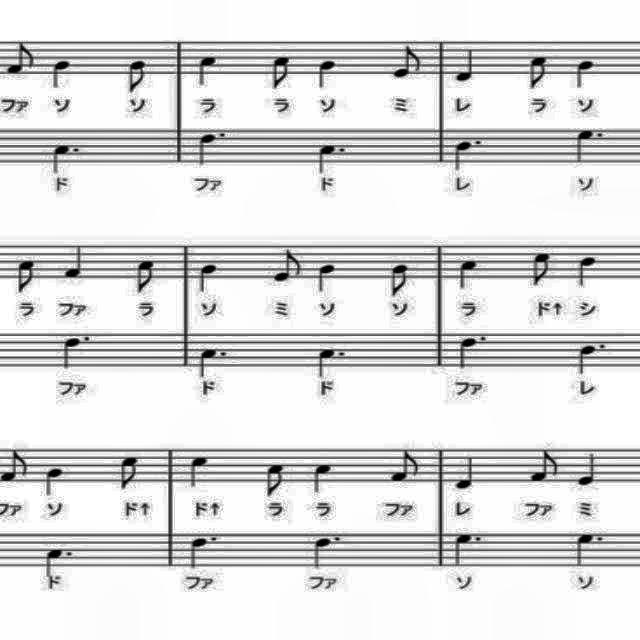Eighth-note: (388, 44, 428, 84), (524, 446, 562, 486), (4, 38, 41, 78), (528, 246, 560, 292), (386, 448, 422, 488), (10, 254, 44, 296), (271, 244, 303, 286), (112, 452, 144, 494), (523, 52, 553, 94), (262, 459, 290, 501), (120, 58, 152, 94), (266, 54, 296, 92), (132, 255, 160, 293), (0, 448, 28, 486), (388, 261, 412, 301)
Quarter-dot: (194, 123, 232, 169), (60, 331, 100, 371), (310, 528, 346, 572), (456, 331, 492, 374), (186, 530, 224, 570), (572, 125, 608, 167), (572, 528, 608, 570), (194, 344, 234, 381), (45, 136, 83, 174), (314, 138, 350, 176), (450, 132, 482, 174), (576, 338, 610, 377), (40, 545, 78, 579), (452, 530, 484, 570), (316, 344, 346, 380)
Quarter-note: (453, 42, 481, 86), (195, 50, 225, 90), (60, 243, 92, 280), (456, 254, 484, 296), (186, 452, 214, 494), (193, 260, 219, 302), (574, 252, 604, 288), (36, 462, 66, 498), (568, 57, 596, 95), (454, 453, 478, 495), (314, 56, 340, 94), (312, 461, 336, 501), (316, 263, 342, 297), (576, 452, 596, 492), (51, 56, 73, 92)
